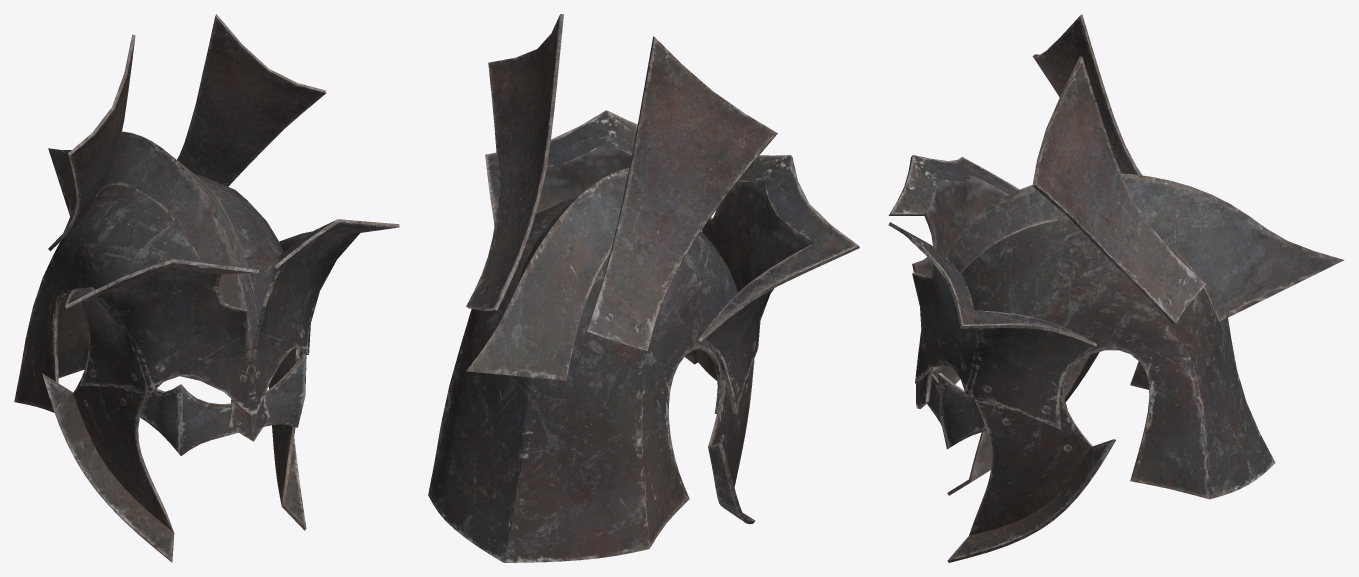
File: sk_dg_uruk_helmet_lord_g.fbx
The picture shows the model from 3 angles, left to right: view 1: azimuth 30°, elevation 25°; view 2: azimuth 150°, elevation 25°; view 3: azimuth 270°, elevation 25°; orthographic projection. The views are drawn at different scales.
Parts seen in each view (by area): view 1: sk_dg_uruk_helmet_lord_g; view 2: sk_dg_uruk_helmet_lord_g; view 3: sk_dg_uruk_helmet_lord_g.
Part boxes in pixels (<box>): sk_dg_uruk_helmet_lord_g: <box>14,14,399,562</box>; sk_dg_uruk_helmet_lord_g: <box>428,14,859,562</box>; sk_dg_uruk_helmet_lord_g: <box>888,14,1344,562</box>.
Size of the model in its own units: 0.3426 by 0.3902 by 0.4663.
1 material, 1 textured.
